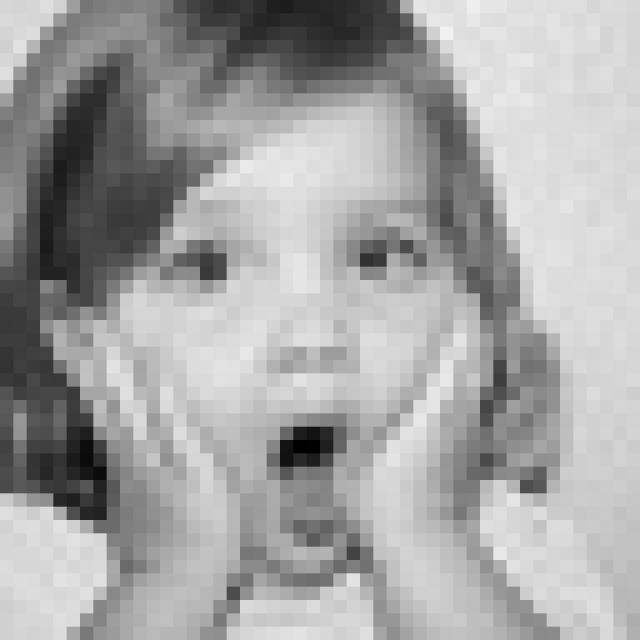surprise: (148, 186, 446, 596)
